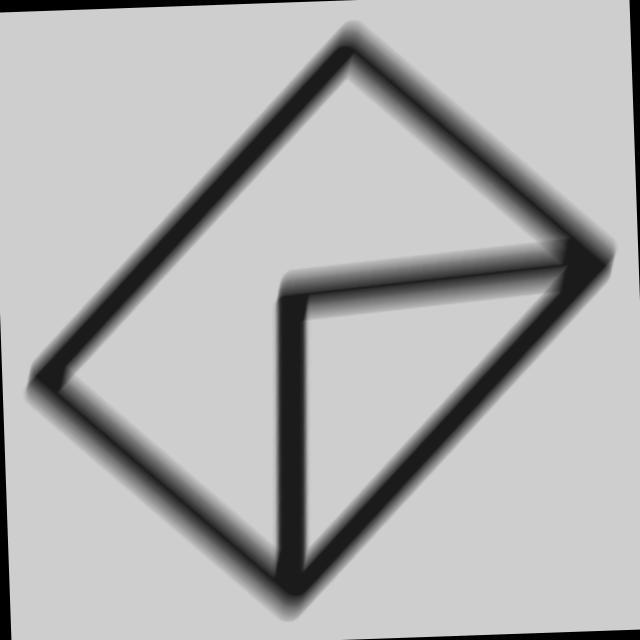letter: (3, 1, 636, 640)
